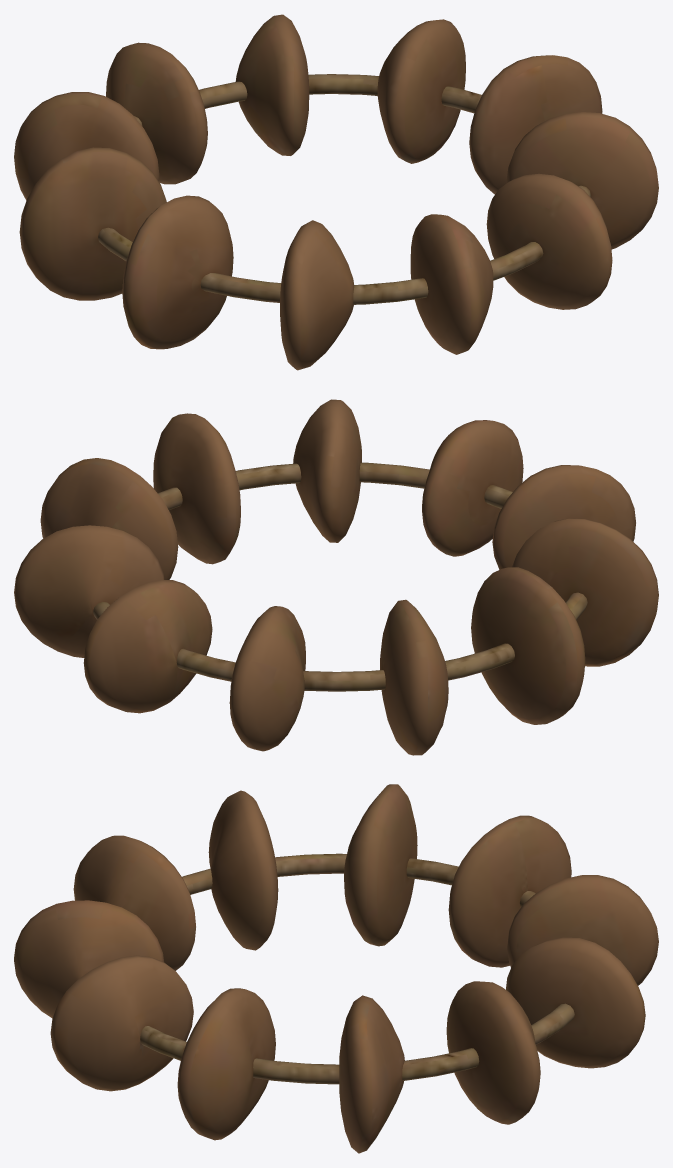
Rendered from dried_figs.glb.
3 views of the same model, one above another, from view 1: azimuth 30°, elevation 25°; view 2: azimuth 150°, elevation 25°; view 3: azimuth 270°, elevation 25° (orthographic).
Parts seen in each view (by area): view 1: dried_figs; view 2: dried_figs; view 3: dried_figs.
Part boxes in pixels (x1=…): dried_figs: x1=14, y1=14, x2=658, y2=370; dried_figs: x1=14, y1=399, x2=658, y2=755; dried_figs: x1=14, y1=784, x2=658, y2=1153.
Bounding box in the file's own units: 0.1166 × 0.0299 × 0.1163.
1 material, 1 textured.
